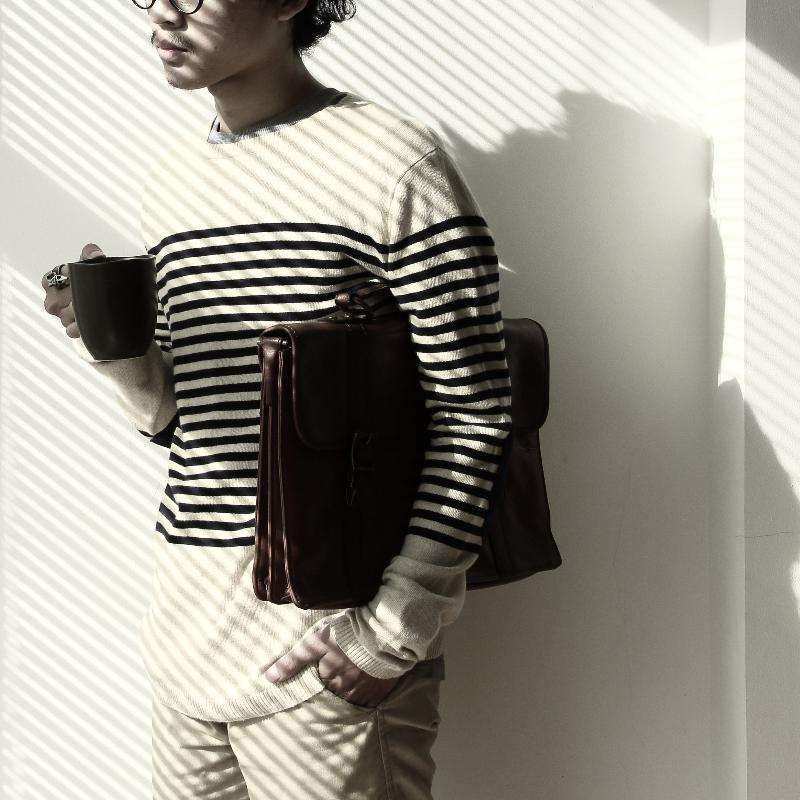Person: (18, 3, 512, 800)
